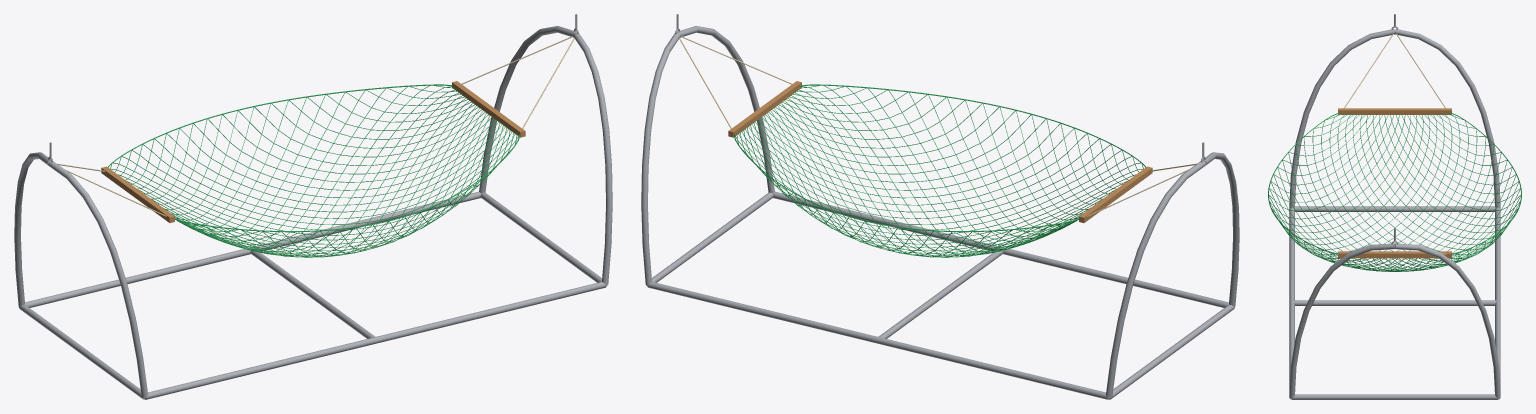
File: hammock_stand_iron.glb
The picture shows the model from 3 angles, left to right: view 1: azimuth 30°, elevation 25°; view 2: azimuth 150°, elevation 25°; view 3: azimuth 270°, elevation 25°; orthographic projection. The views are drawn at different scales.
Parts seen in each view (by area): view 1: net_hammock_stand_iron, hammock_stand_iron; view 2: net_hammock_stand_iron, hammock_stand_iron; view 3: net_hammock_stand_iron, hammock_stand_iron.
Boxes of the visible parts, x1,y1,x2,y2 form: net_hammock_stand_iron: (57, 36, 574, 257); hammock_stand_iron: (14, 14, 612, 399); net_hammock_stand_iron: (679, 36, 1196, 257); hammock_stand_iron: (641, 14, 1239, 399); net_hammock_stand_iron: (1268, 34, 1521, 271); hammock_stand_iron: (1289, 14, 1500, 399).
Size of the model in its own units: 2.43 by 0.9593 by 1.2.
